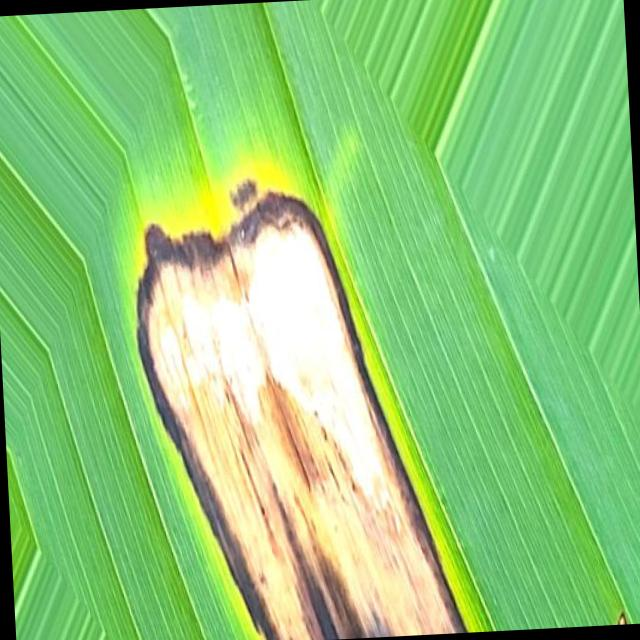Banana_Black_Sigatoka: (116, 172, 488, 640)
